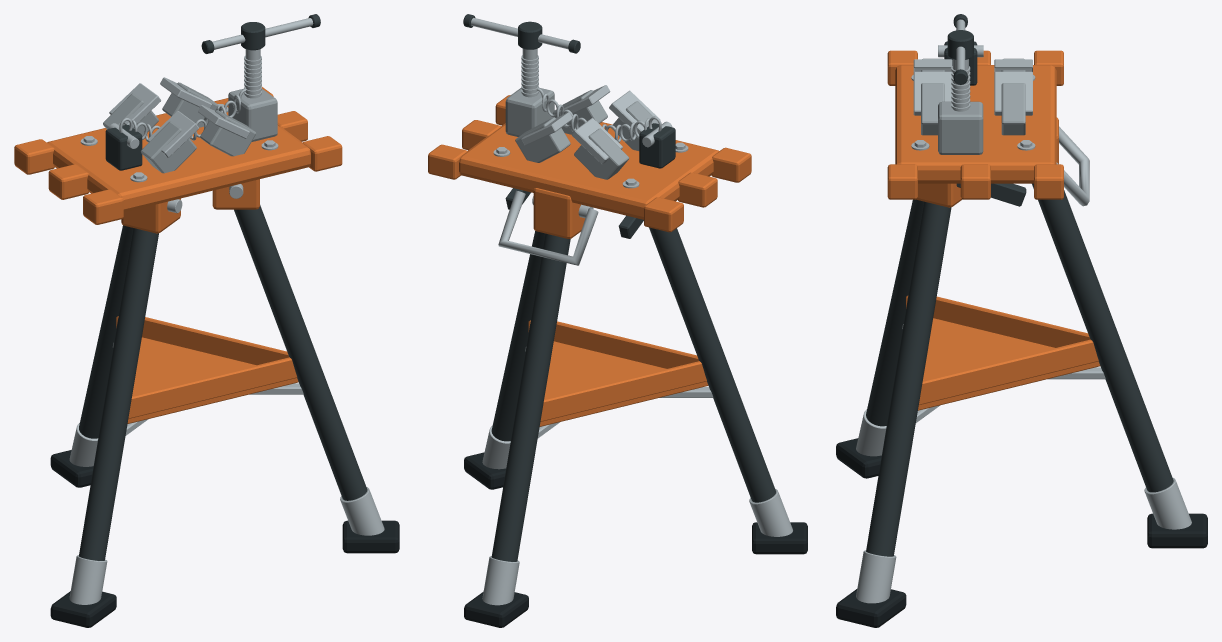
File: city-tripod-pipe-vise.glb
The picture shows the model from 3 angles, left to right: view 1: azimuth 30°, elevation 25°; view 2: azimuth 150°, elevation 25°; view 3: azimuth 270°, elevation 25°; orthographic projection. The views are drawn at different scales.
Visible parts, largest first — view 1: Assembly | Warm industrial orange enamel, Assembly | Graphite painted structure, Assembly | Brushed galvanized hardware, Assembly | Cast aluminium surface, Assembly | Molded charcoal rubber; view 2: Assembly | Warm industrial orange enamel, Assembly | Graphite painted structure, Assembly | Brushed galvanized hardware, Assembly | Cast aluminium surface, Assembly | Molded charcoal rubber; view 3: Assembly | Warm industrial orange enamel, Assembly | Graphite painted structure, Assembly | Brushed galvanized hardware, Assembly | Cast aluminium surface, Assembly | Molded charcoal rubber.
Part boxes in pixels (box(x1,y1,x2,y2)): Assembly | Warm industrial orange enamel: box(14, 87, 342, 423); Assembly | Graphite painted structure: box(79, 14, 367, 560); Assembly | Brushed galvanized hardware: box(69, 18, 384, 604); Assembly | Cast aluminium surface: box(103, 82, 277, 173); Assembly | Molded charcoal rubber: box(50, 450, 399, 627); Assembly | Warm industrial orange enamel: box(428, 95, 751, 426); Assembly | Graphite painted structure: box(463, 14, 775, 561); Assembly | Brushed galvanized hardware: box(471, 17, 792, 605); Assembly | Cast aluminium surface: box(505, 87, 658, 179); Assembly | Molded charcoal rubber: box(464, 452, 807, 627); Assembly | Warm industrial orange enamel: box(887, 50, 1100, 410); Assembly | Graphite painted structure: box(866, 14, 1173, 556); Assembly | Brushed galvanized hardware: box(856, 19, 1191, 603); Assembly | Cast aluminium surface: box(921, 58, 1025, 154); Assembly | Molded charcoal rubber: box(836, 438, 1207, 627).
Size of the model in its own units: 0.8482 by 1.18 by 0.7372.
